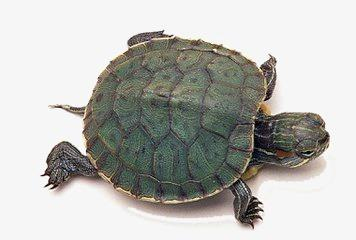tortoise: (38, 27, 329, 234)
